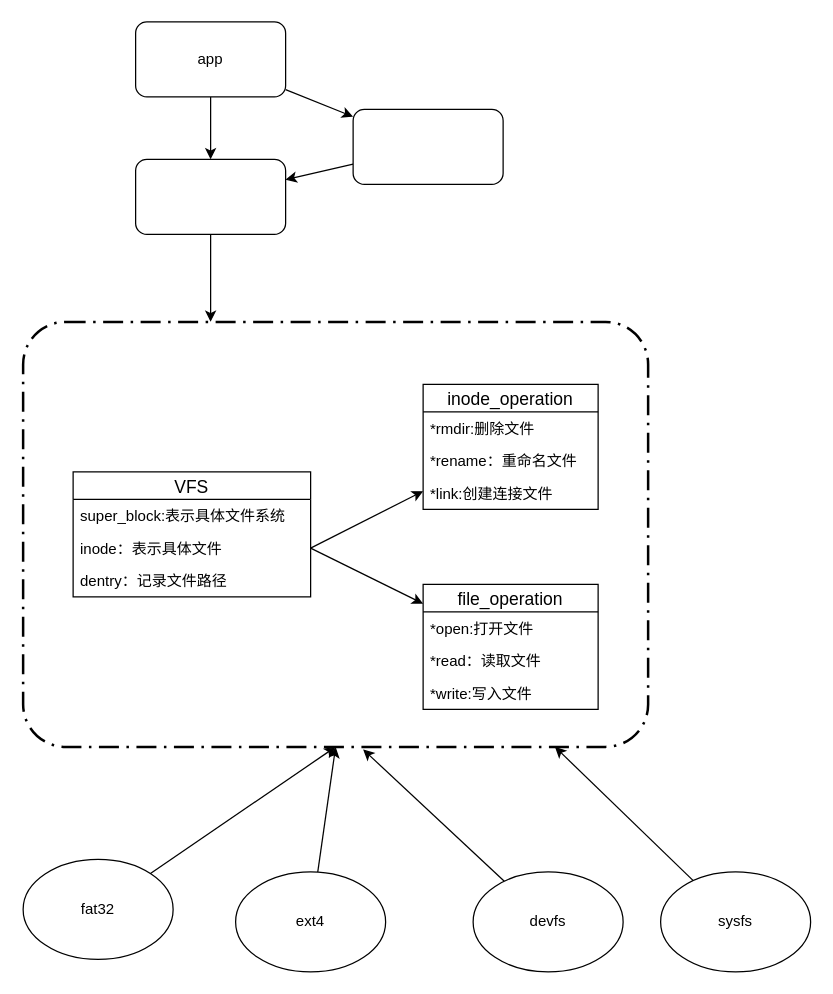
Image size: 833x994. Some labels were removed from this diagram. Here are the shapes that lost their labels. From the top down, the centre of each, then its label:
At [427,146]: "glibc".
At [210,196]: "系统调用函数".
